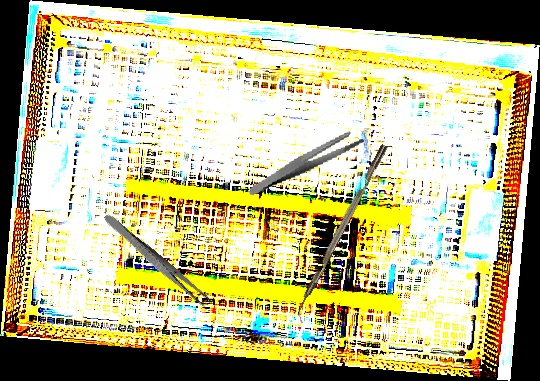Chopper: (289, 143, 397, 325)
Dressing Forceps: (100, 212, 213, 309), (240, 128, 372, 197)
